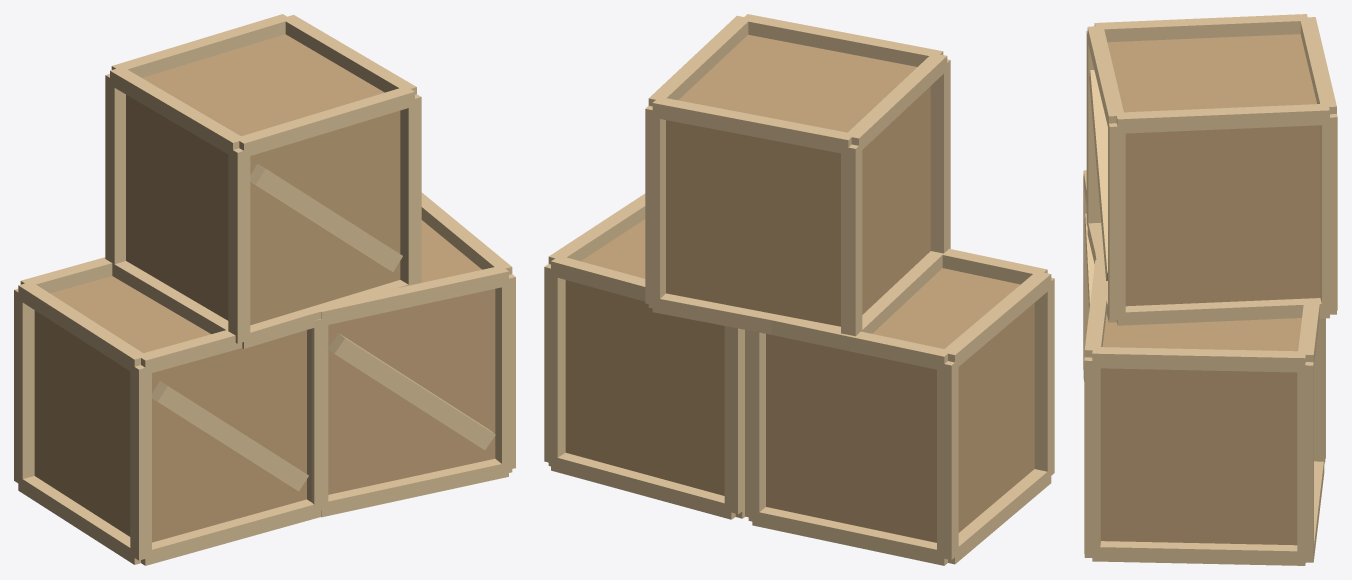
File: crate_stack.glb
3 renders of one model, left to right at view 1: azimuth 30°, elevation 25°; view 2: azimuth 150°, elevation 25°; view 3: azimuth 270°, elevation 25°, orthographic.
Parts seen in each view (by area): view 1: crate_stack; view 2: crate_stack; view 3: crate_stack.
Part boxes in pixels (x1=…): crate_stack: x1=14, y1=14, x2=515, y2=565; crate_stack: x1=544, y1=14, x2=1054, y2=565; crate_stack: x1=1083, y1=14, x2=1337, y2=565.
Bounding box in the file's own units: 1.2 × 1.14 × 0.6565.
